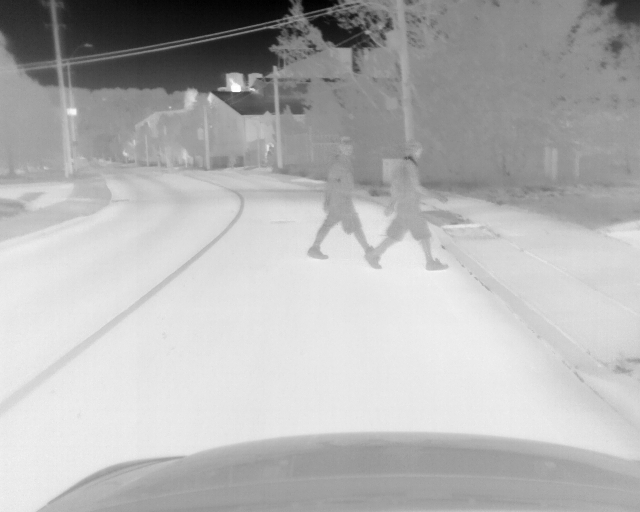people: (370, 138, 448, 271), (308, 136, 382, 271)
